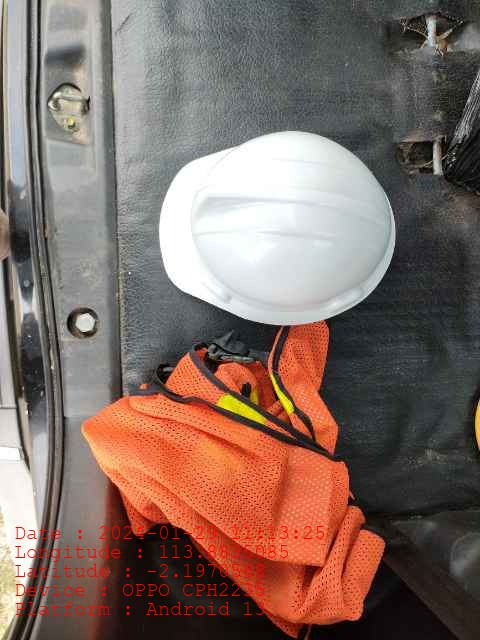HELM: (157, 129, 397, 325)
